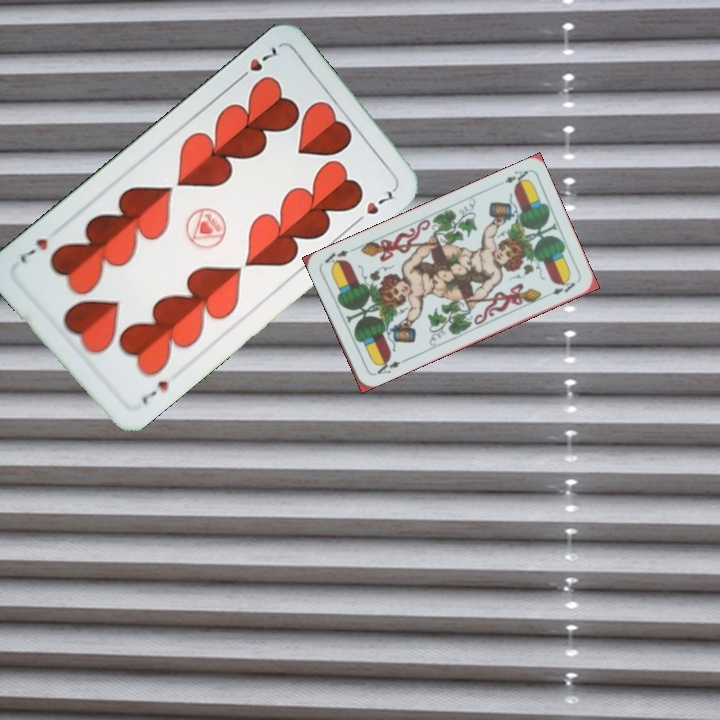EA: (370, 354, 408, 378), (500, 166, 532, 188)
H7: (232, 42, 283, 85), (137, 376, 173, 408)
